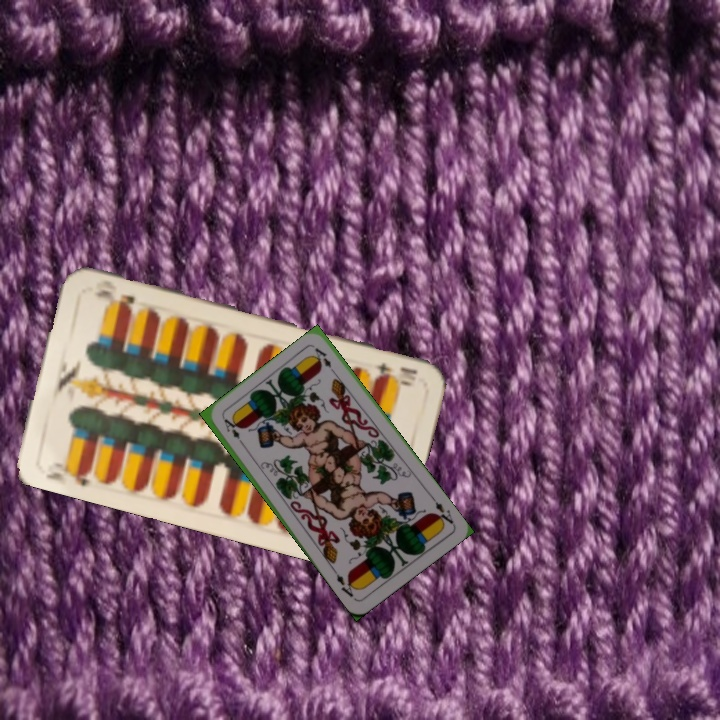E10: (42, 465, 94, 489), (372, 359, 420, 384)
EA: (427, 493, 457, 529), (220, 415, 247, 449)
